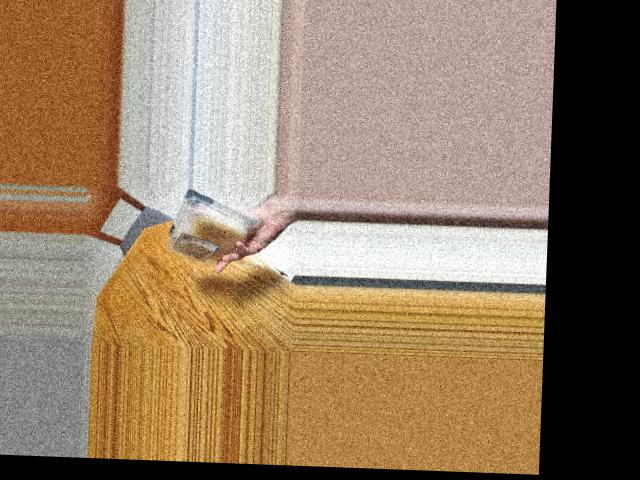cheese: (167, 194, 249, 264)
